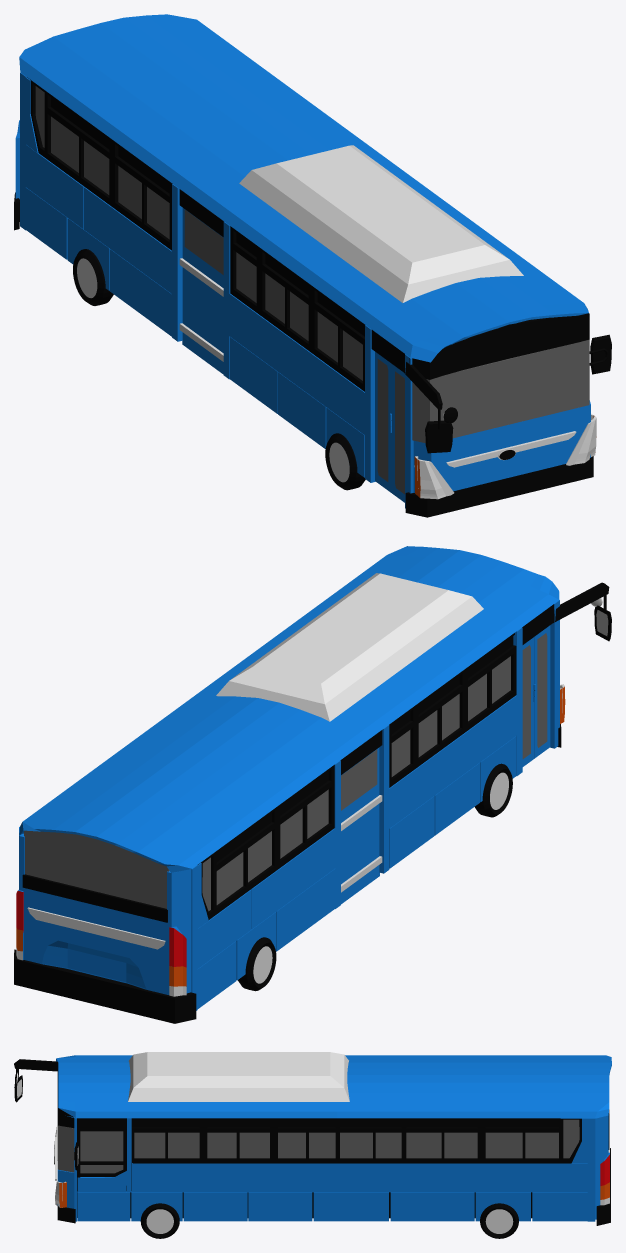
Rendered from bus.glb.
3 renders of one model, top to bottom at view 1: azimuth 30°, elevation 25°; view 2: azimuth 150°, elevation 25°; view 3: azimuth 270°, elevation 25°, orthographic. The views are drawn at different scales.
Size of the model in its own units: 3.25 by 2.98 by 11.
